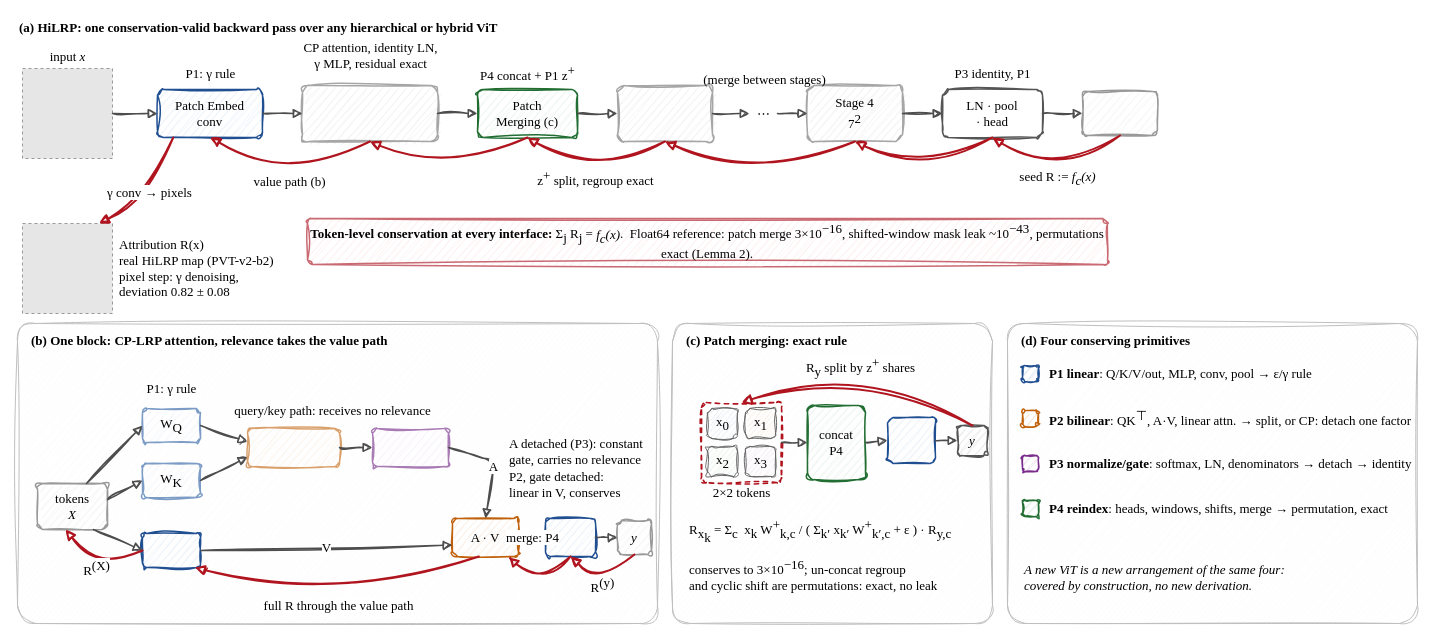
Image size: 1435x641. Some labels were removed from this diagram. Grey dashed boxes stand in for pictures. Each missing label, with the centre of its shape:
"f c (x)" belongs at pixel 1119 113.
"QK ⊤ /√d" belongs at pixel 293 447.
"softmax" belongs at pixel 410 447.
"Stage 1 ×L 1 blocks (b) · 56 2" belongs at pixel 369 113.
"Stage 2 28 2" belongs at pixel 664 113.
"W O" belongs at pixel 570 537.
"W P1 z +" belongs at pixel 911 440.
"W V" belongs at pixel 171 550.
